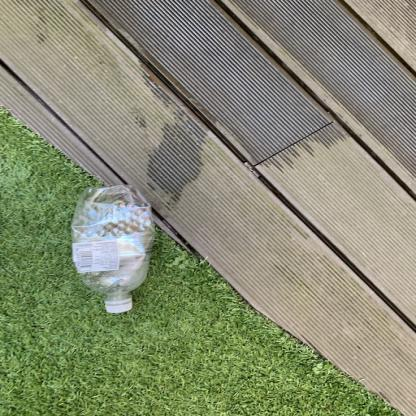trash: (69, 184, 157, 318)
